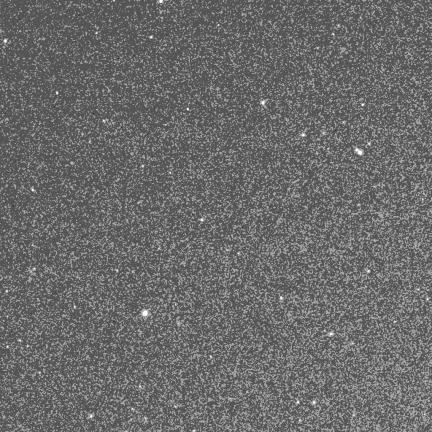blob: (142, 310, 148, 316), (260, 100, 265, 105), (329, 332, 334, 336), (280, 296, 284, 301), (302, 133, 306, 138), (3, 39, 7, 43), (199, 218, 203, 221), (394, 320, 397, 324), (141, 165, 145, 168), (56, 91, 59, 95), (71, 162, 75, 165), (33, 268, 36, 272), (367, 270, 371, 273), (159, 0, 163, 3), (210, 355, 213, 359), (238, 252, 241, 256), (297, 401, 300, 405), (149, 36, 153, 39), (31, 188, 34, 191), (332, 33, 335, 36), (6, 290, 9, 293), (187, 108, 190, 111), (417, 288, 420, 291), (169, 172, 172, 175), (96, 32, 99, 35), (362, 103, 364, 106), (7, 346, 9, 349), (313, 401, 315, 404)
